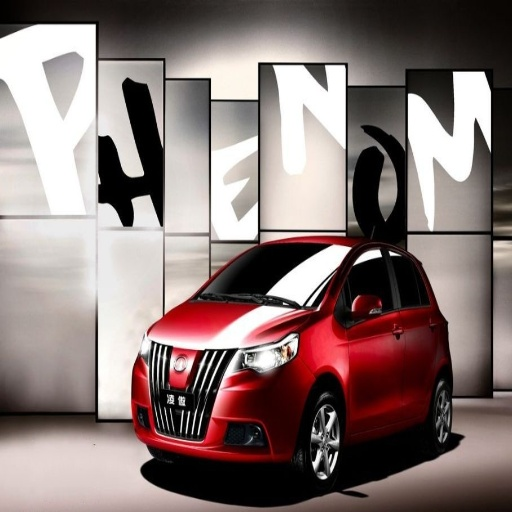front_bumper: (130, 340, 308, 462)
front_glass: (193, 242, 343, 307)
front_left_door: (339, 239, 403, 430)
